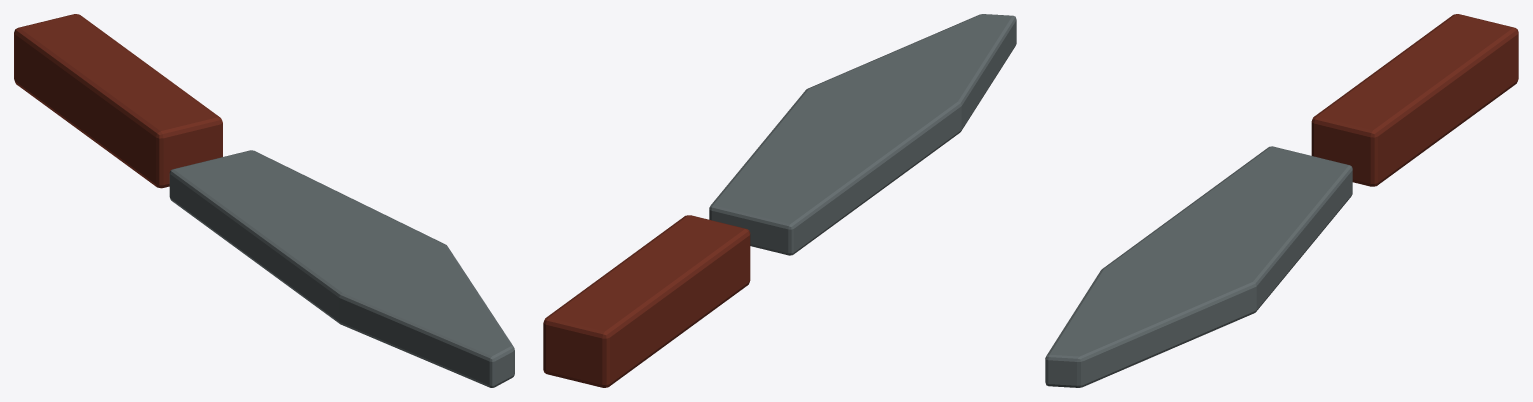
The model's file is kopis_heavy_LOD2.glb.
3 renders of one model, left to right at view 1: azimuth 30°, elevation 25°; view 2: azimuth 150°, elevation 25°; view 3: azimuth 330°, elevation 25°, orthographic.
Parts seen in each view (by area): view 1: LOD2_KopisBlade, LOD2_Grip; view 2: LOD2_KopisBlade, LOD2_Grip; view 3: LOD2_KopisBlade, LOD2_Grip.
Part boxes in pixels (box(x1,y1,x2,y2)): LOD2_KopisBlade: box(169, 150, 514, 387); LOD2_Grip: box(14, 14, 222, 188); LOD2_KopisBlade: box(709, 14, 1016, 255); LOD2_Grip: box(543, 215, 750, 387); LOD2_KopisBlade: box(1045, 146, 1352, 387); LOD2_Grip: box(1311, 14, 1518, 186).
Bounding box in the file's own units: 0.22 × 0.09 × 1.28.
